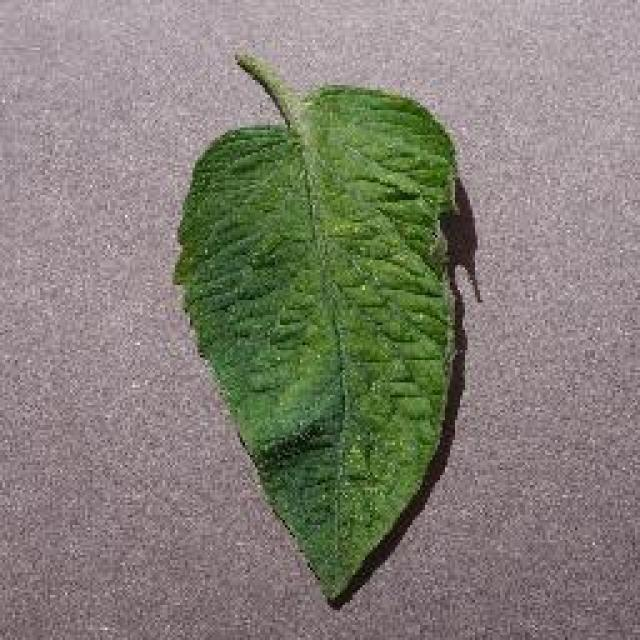Tomato___Spider_mites Two-spotted_spider_mite: (175, 55, 452, 595)
